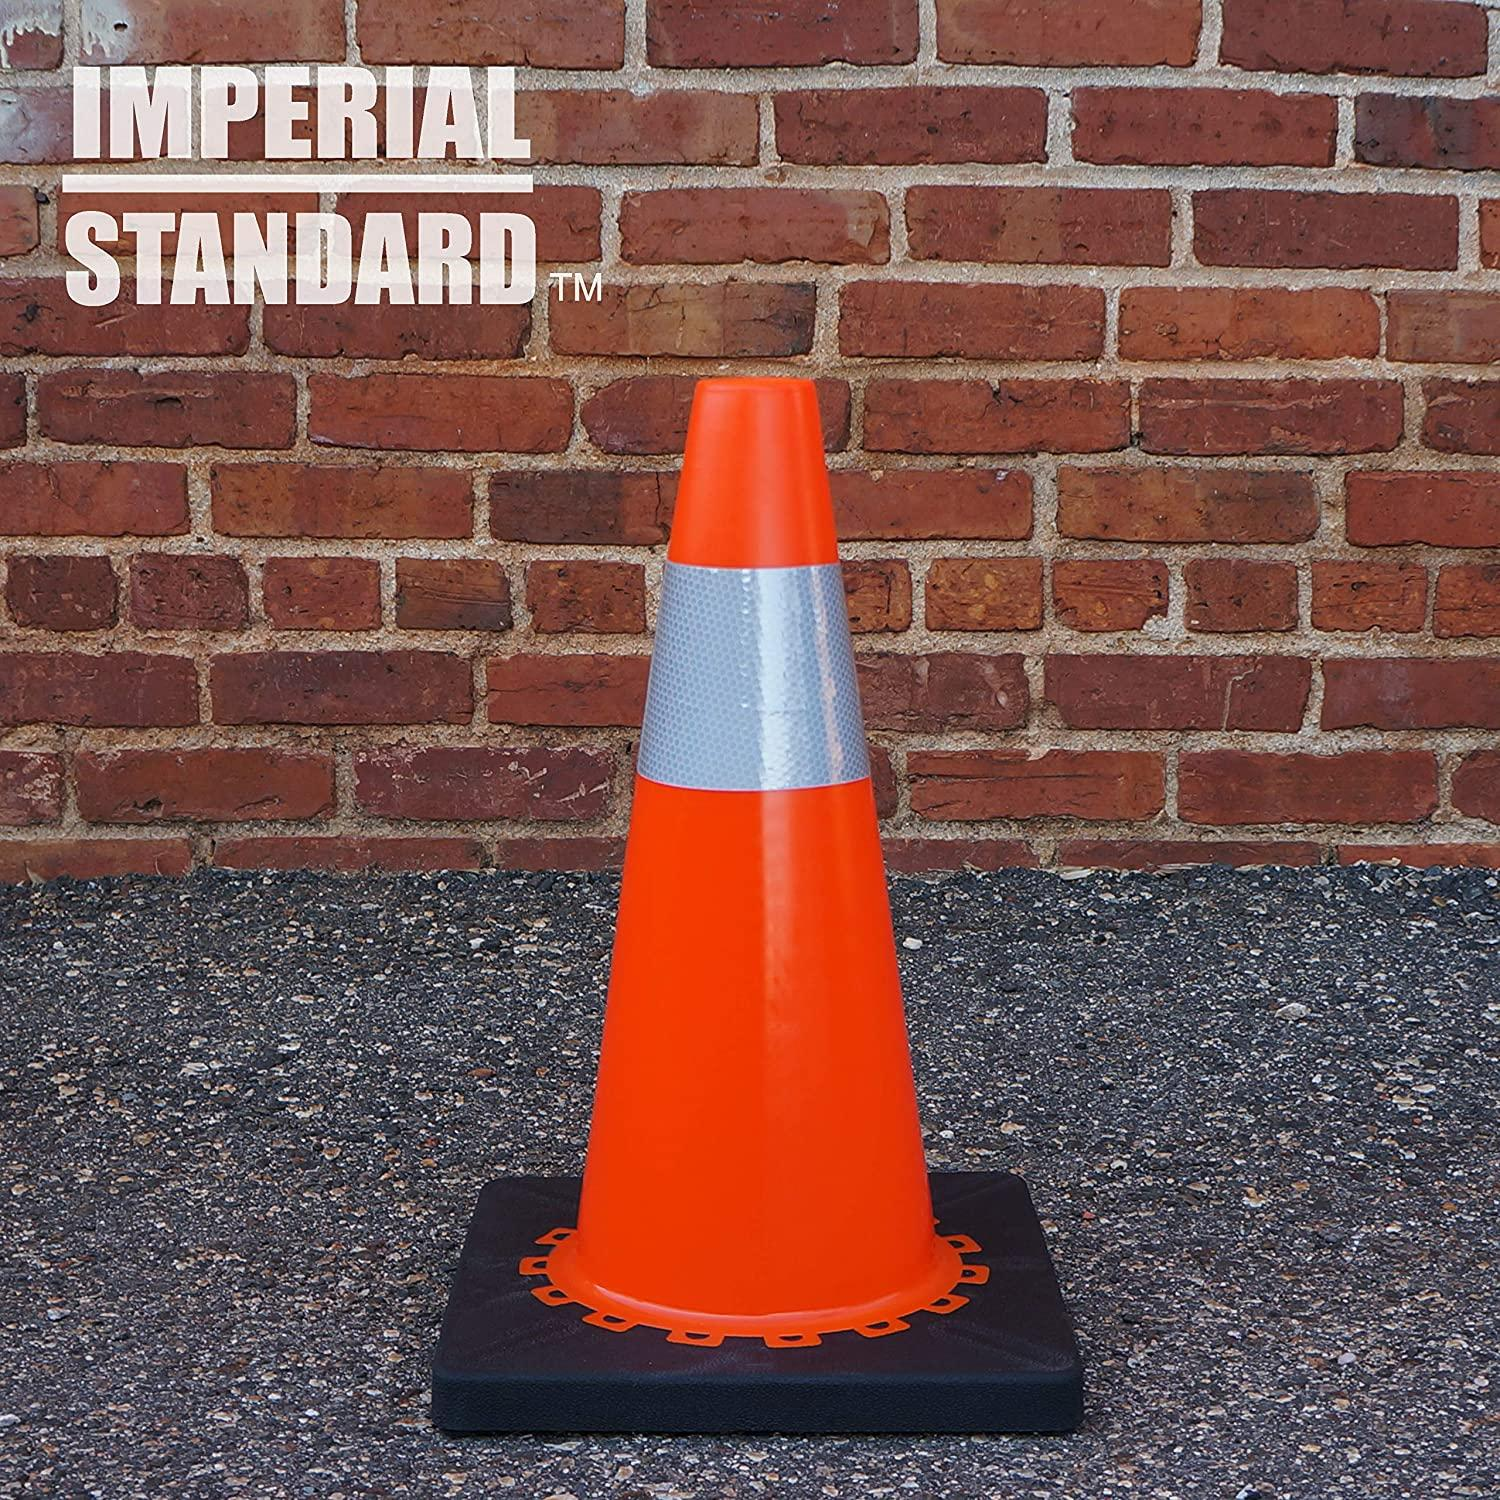traffic cone: (429, 374, 1082, 1434), (530, 376, 964, 1357)
